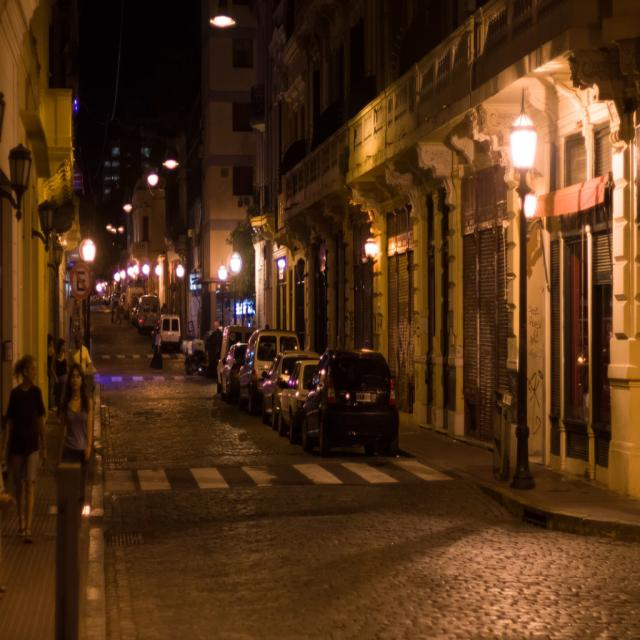car: (302, 345, 400, 451)
